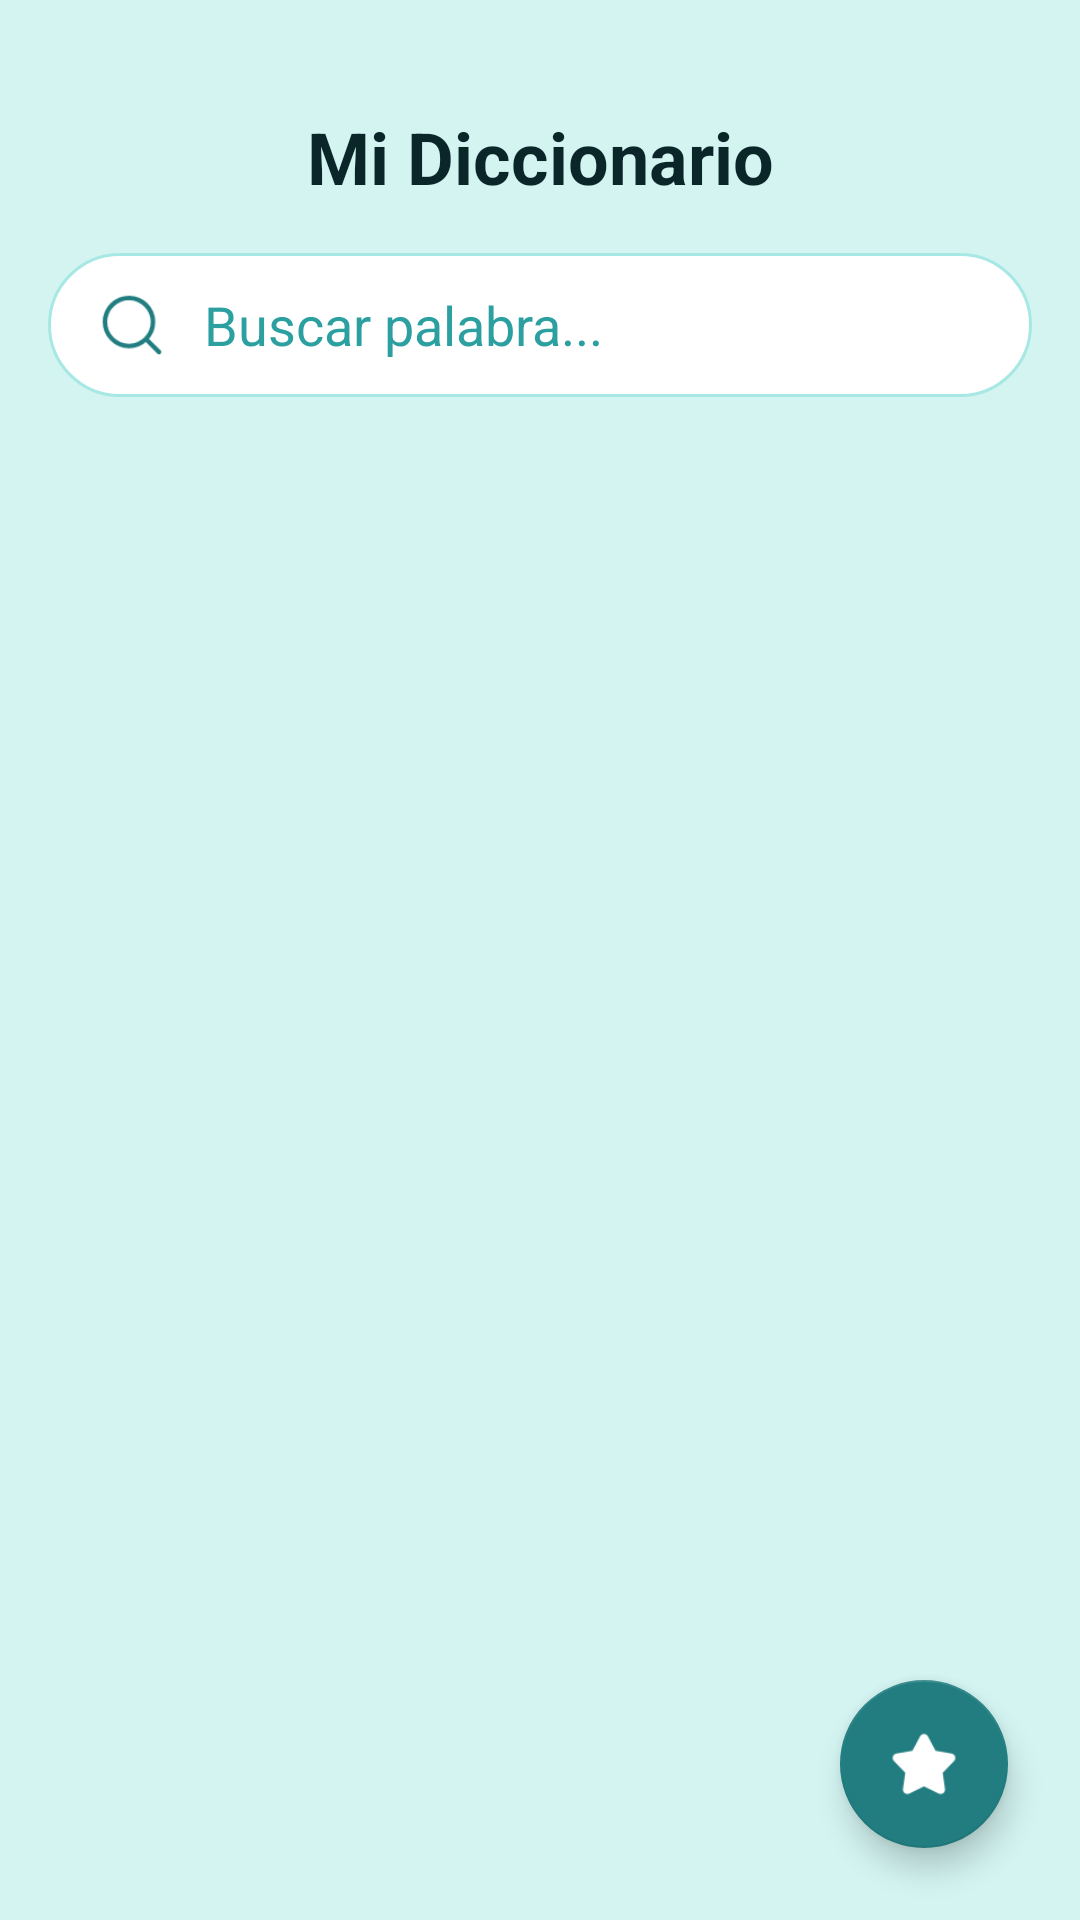

Icon bounding boxes for this 1080px×1920px phone screenshot, format [left=x1, top=y1, right=x2, bottom=y2]:
search: [left=102, top=295, right=162, bottom=355]
star: [left=840, top=1680, right=1008, bottom=1848]
